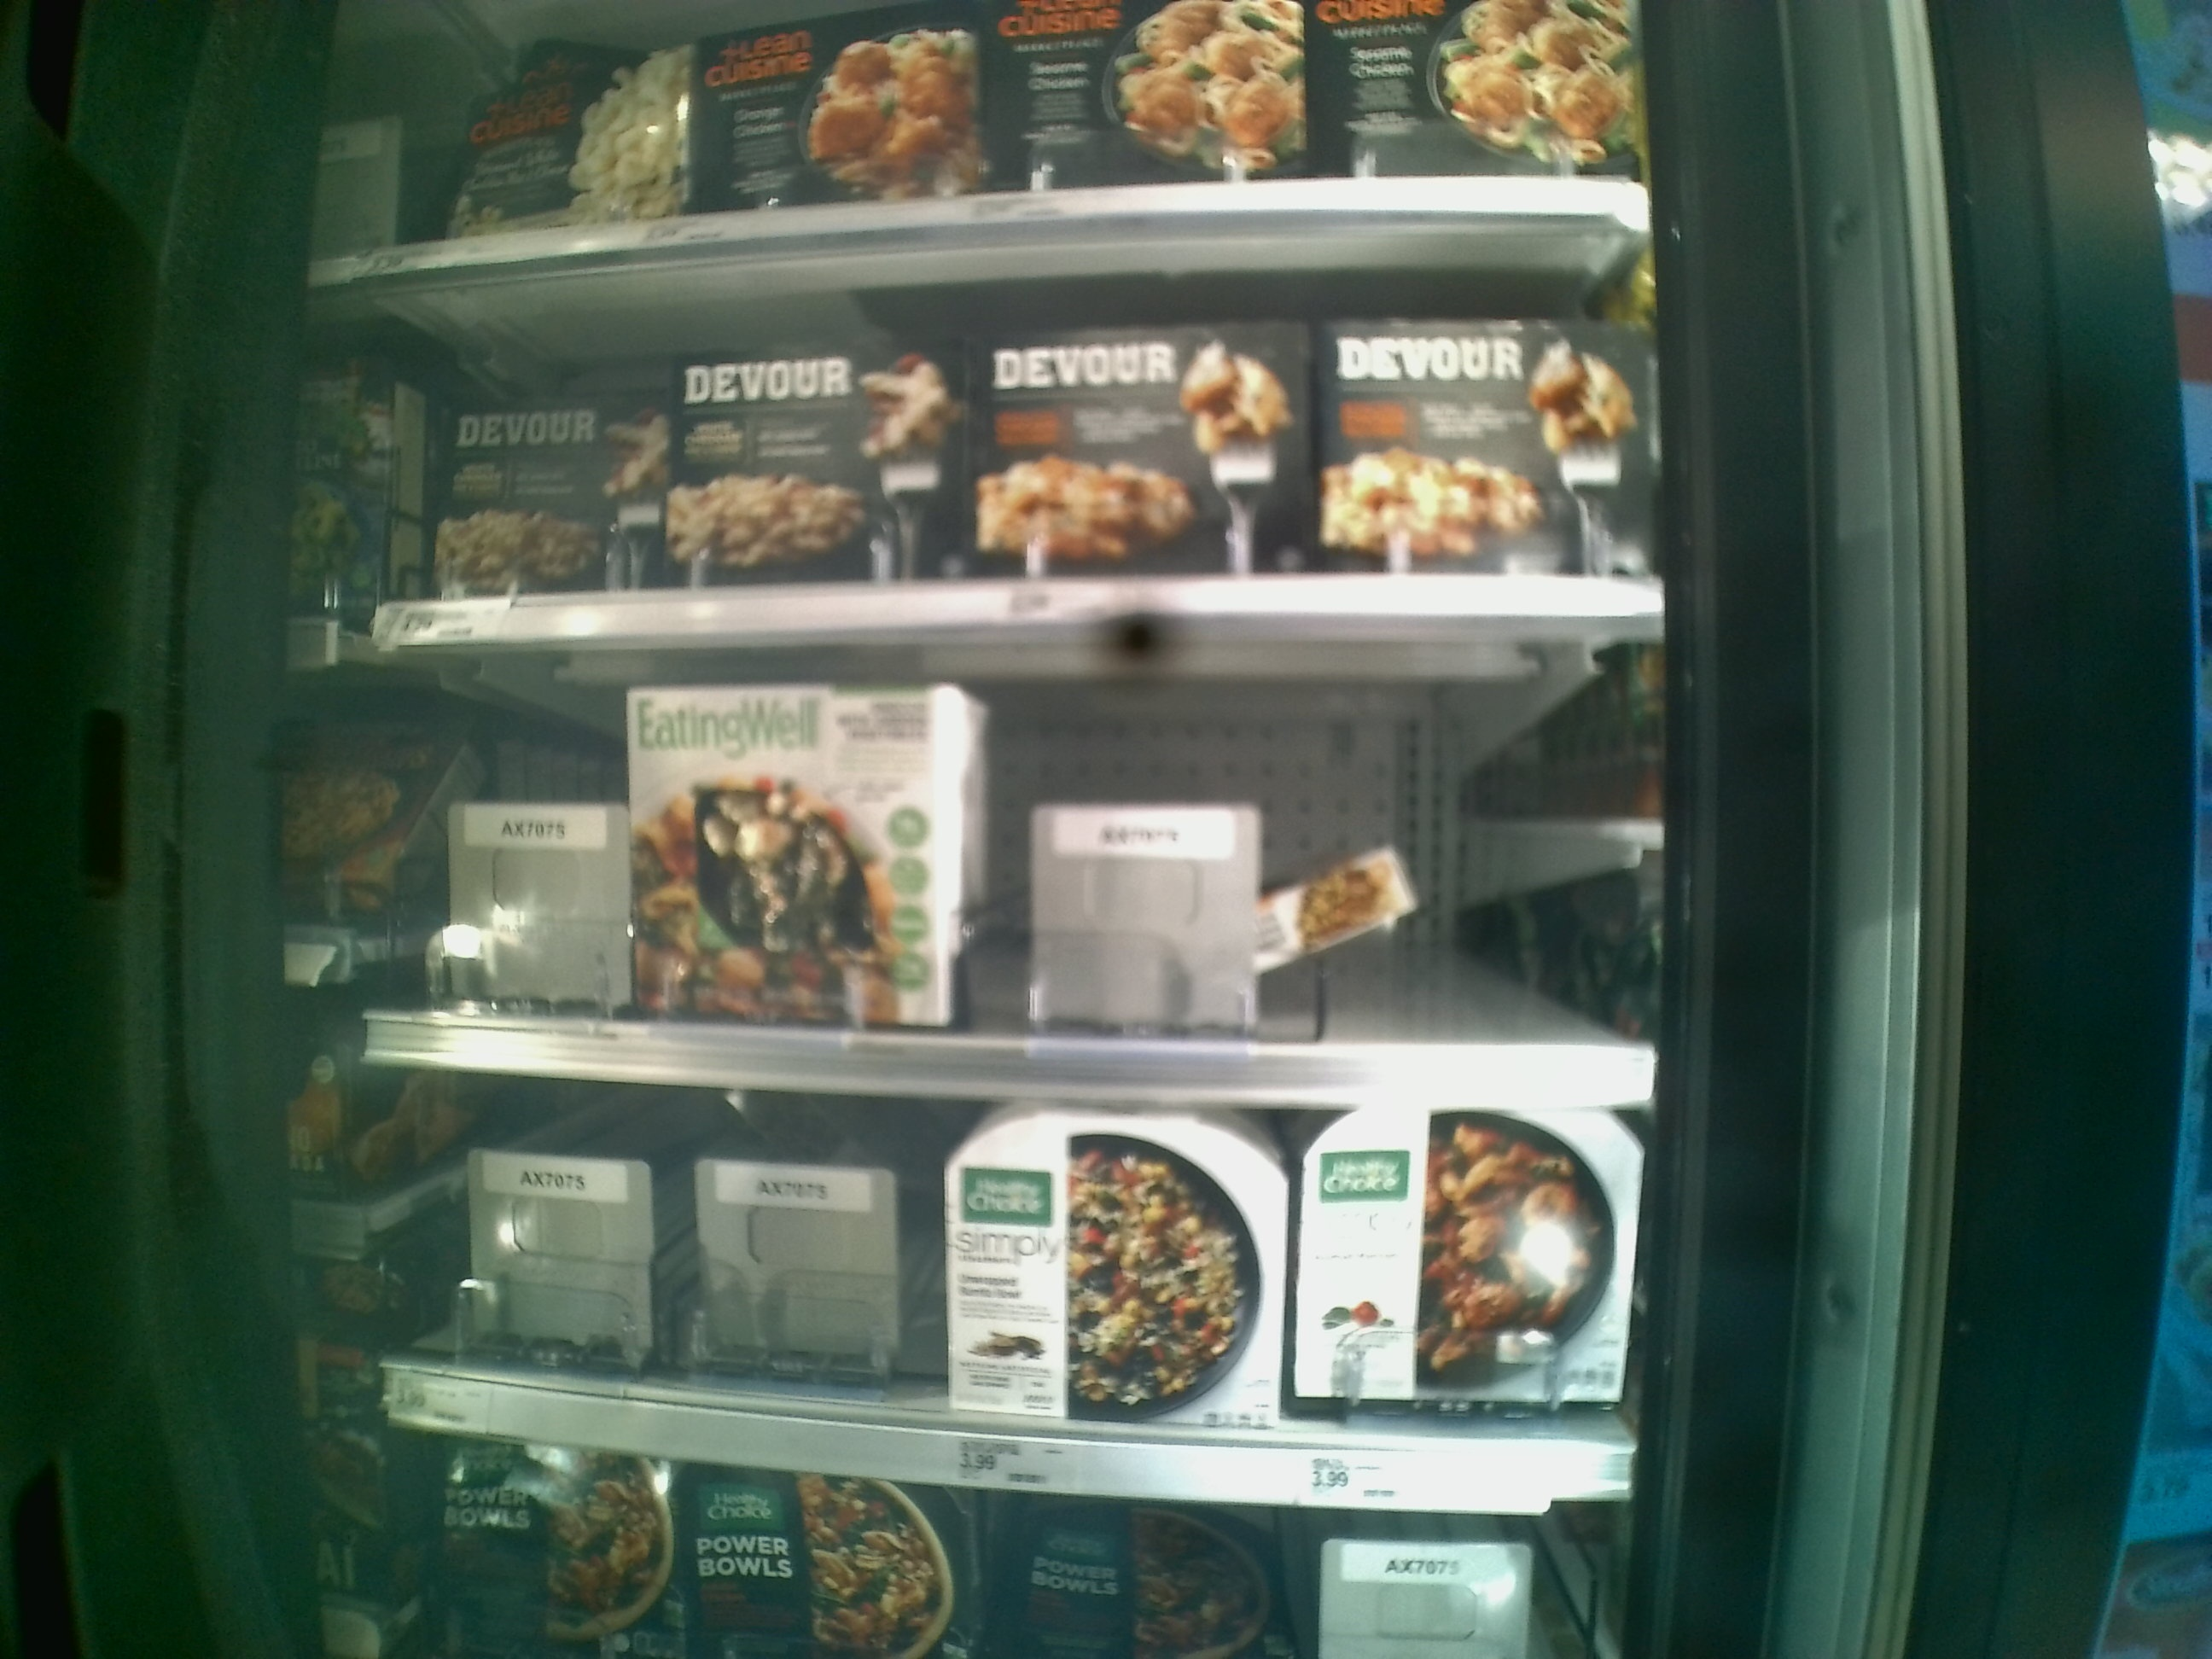shelf: (366, 620, 1663, 1103), (326, 204, 1662, 648), (361, 1060, 1646, 1513)
